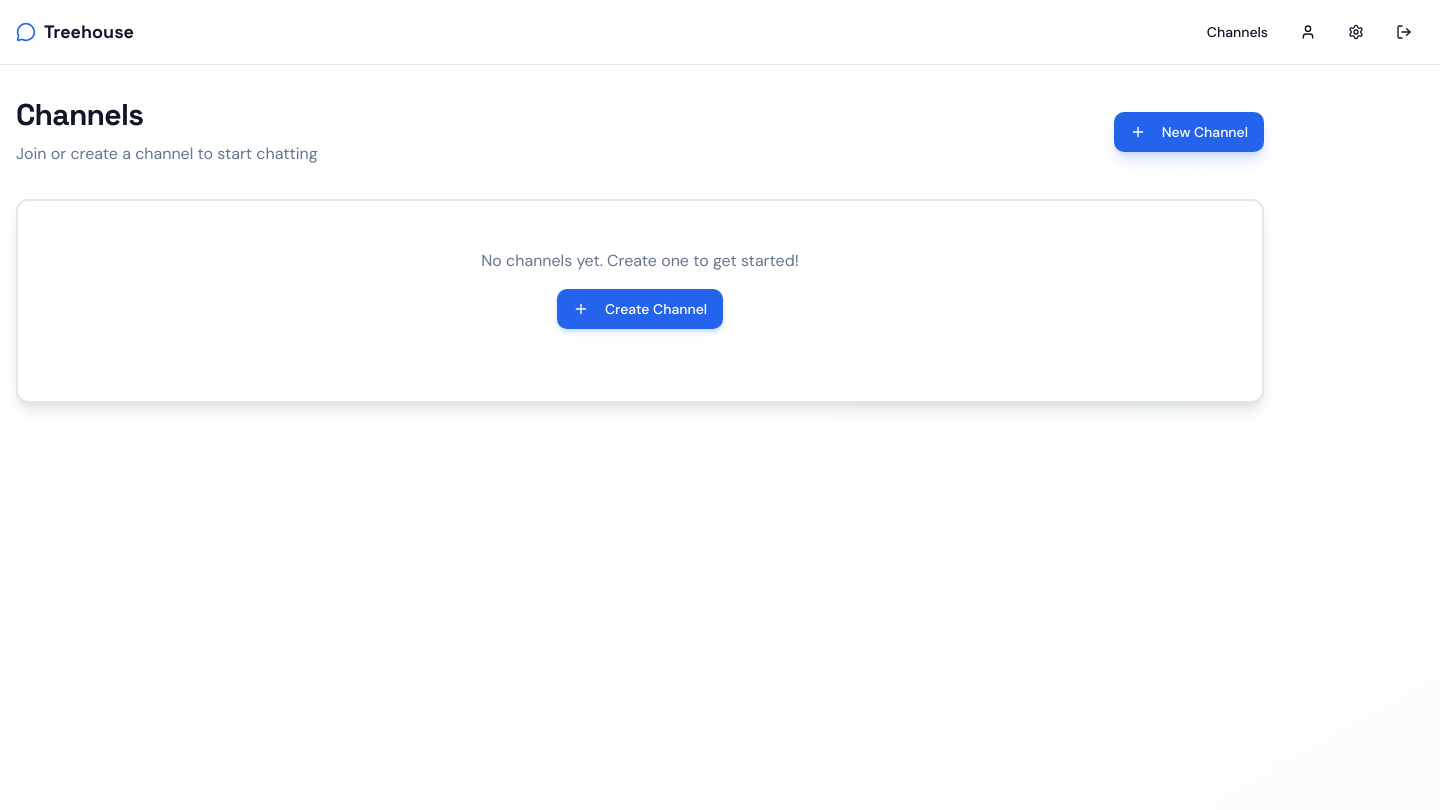
Test: Channels Page › opens create channel modal when button is clicked
Expected: the text "No channels yet. Create one to get started!" is shown, [481,250,799,271]
Click the button "New Channel" at [1189, 132], box [1114,112,1264,152]
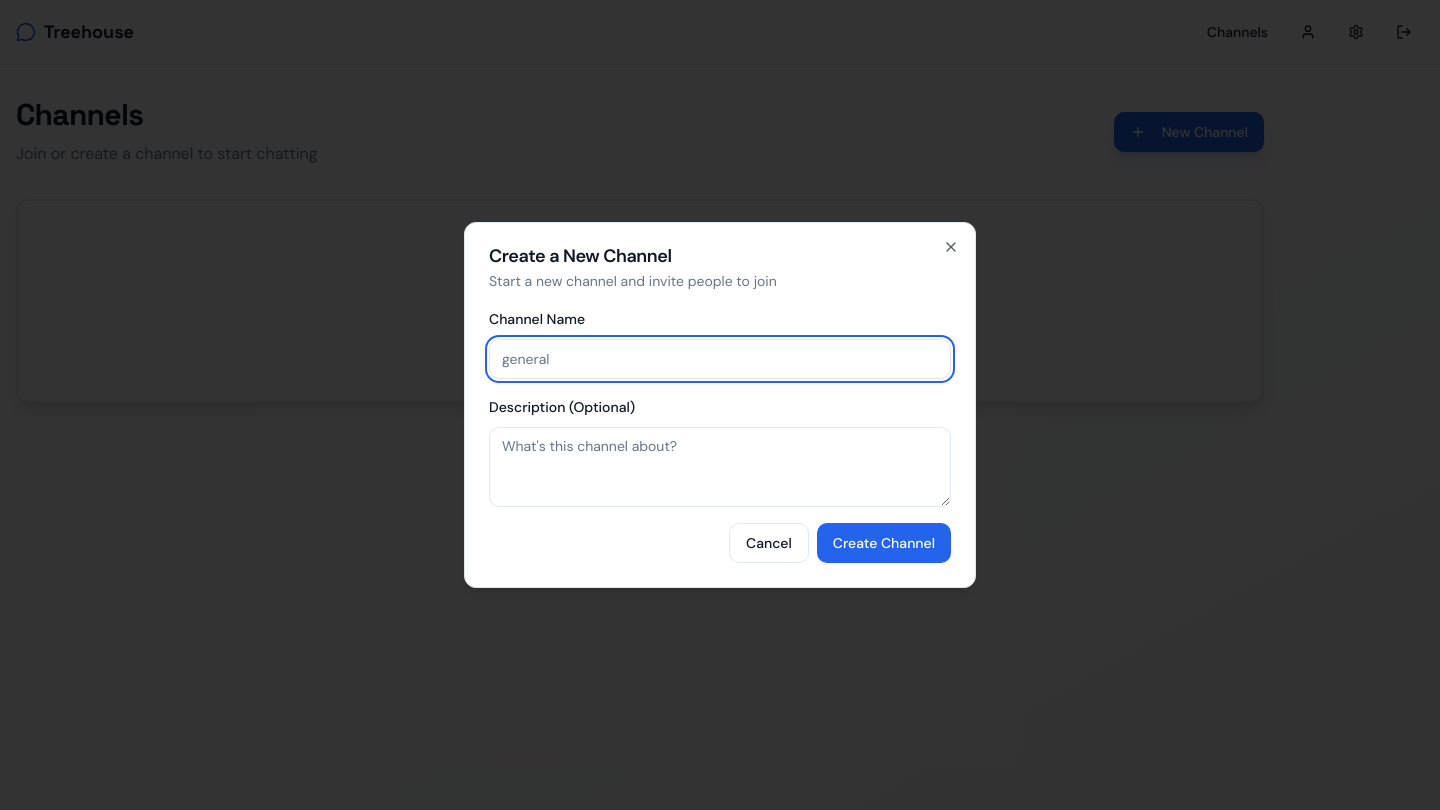
Now the dialog is shown, box [464,222,976,588]
